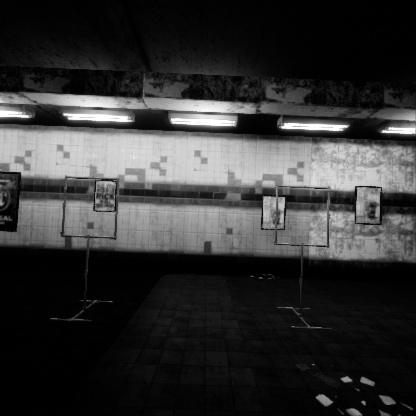gate: (61, 176, 124, 240), (275, 168, 335, 231)
